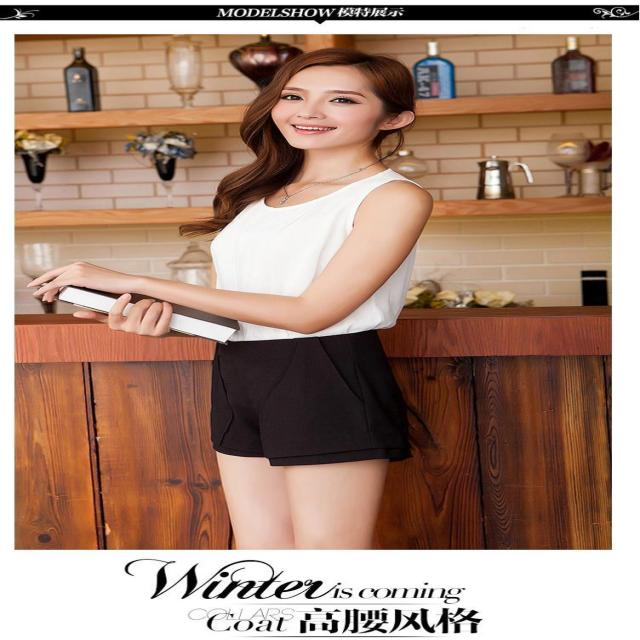shorts: (198, 334, 438, 480)
